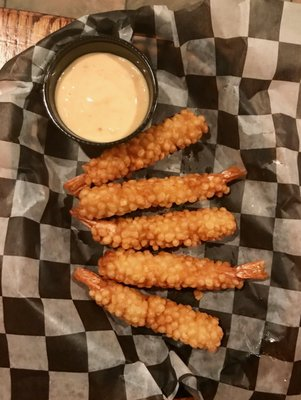soup: (63, 105, 267, 354)
